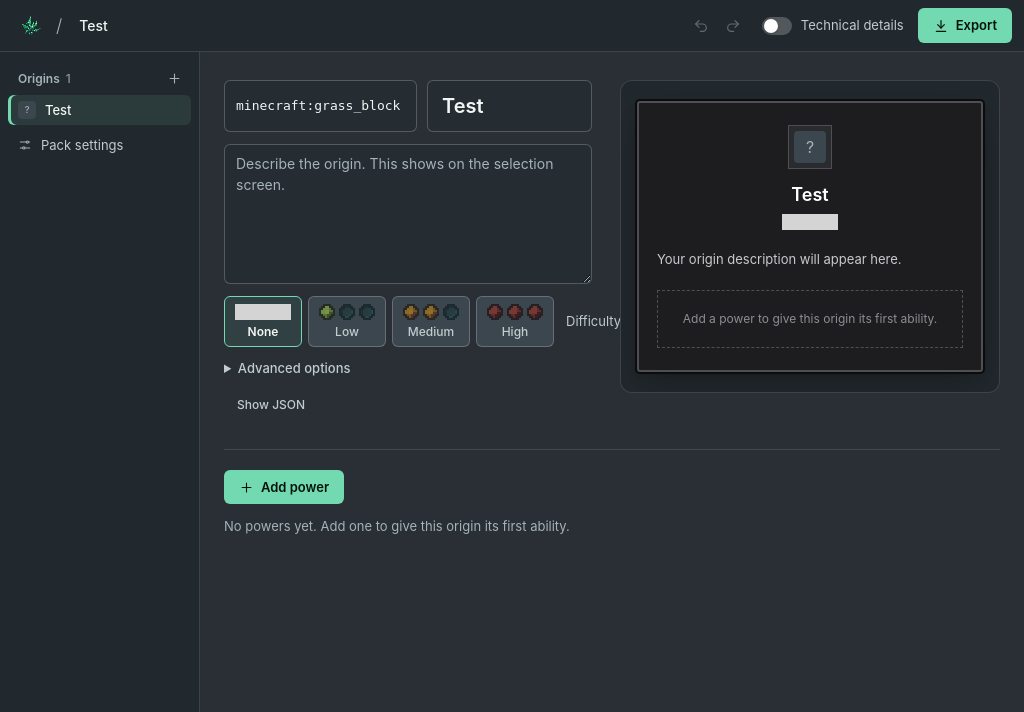
Test case: workshop › creates a power and its reference as one undo step
Click the button "Add power".
click(284, 487)  # box [224,470,344,504]
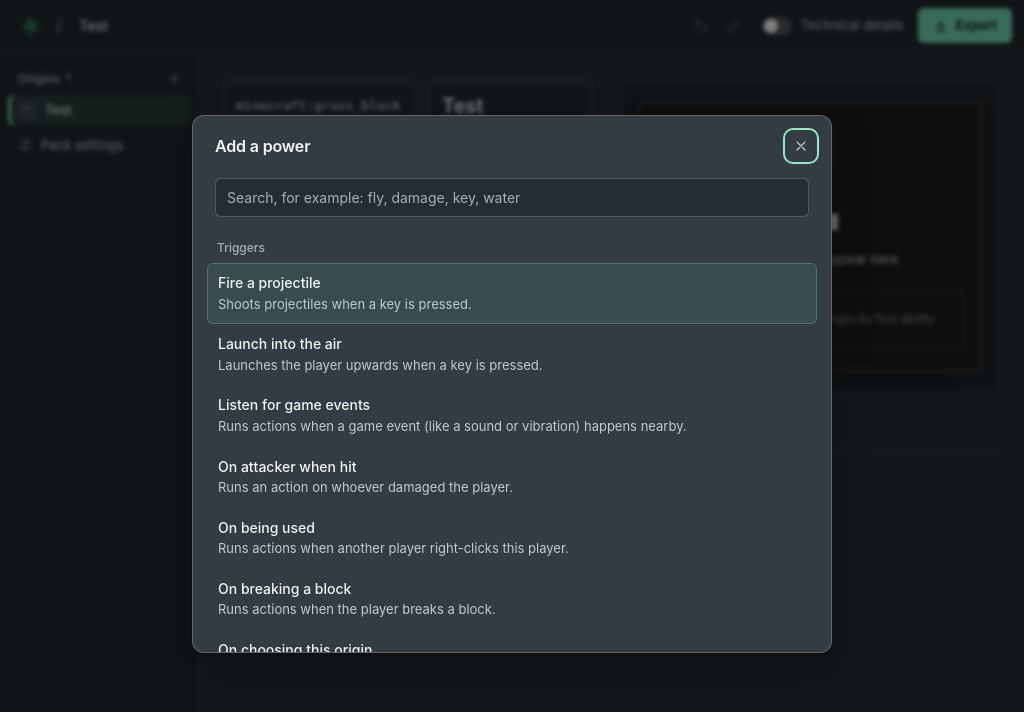
Type "fire immunity" into the dropdown.
click(512, 198); type("fire immunity")  # box [215,178,809,217]
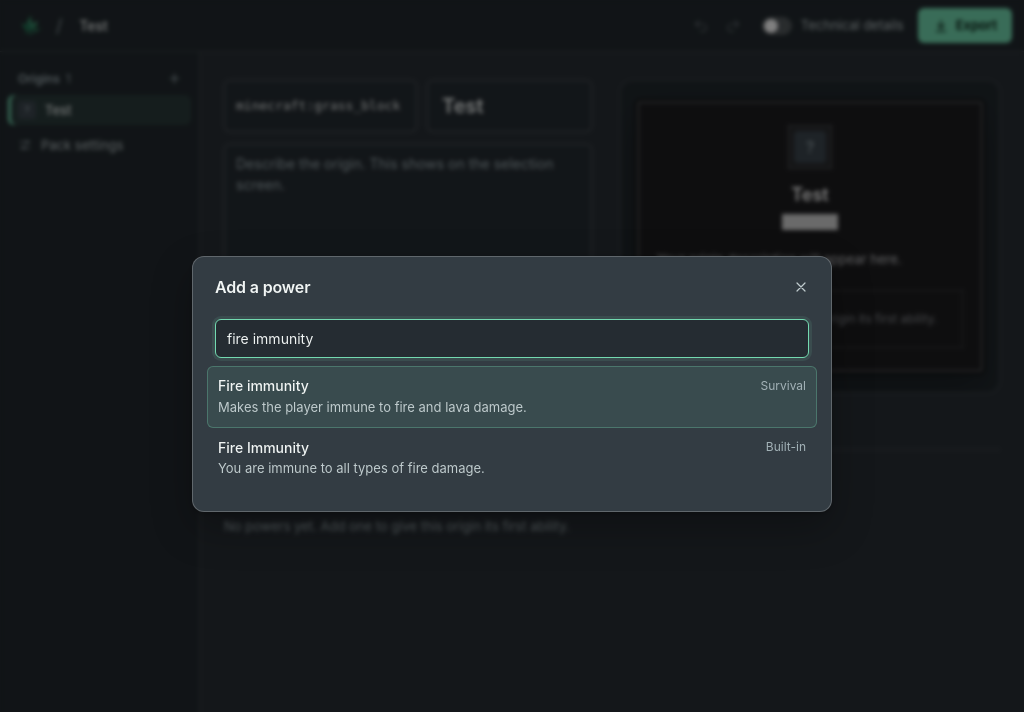
Click the option "Fire immunity".
click(512, 397)  # box [207,366,817,428]
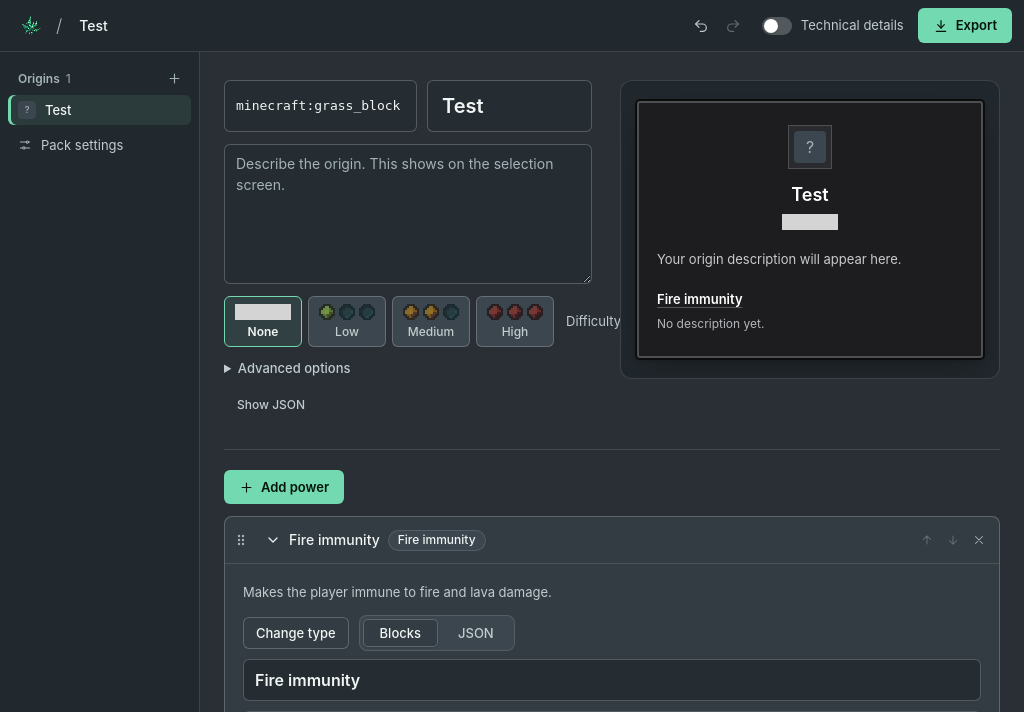
Click the button named "Undo".
click(701, 26)  # box [686,10,716,40]
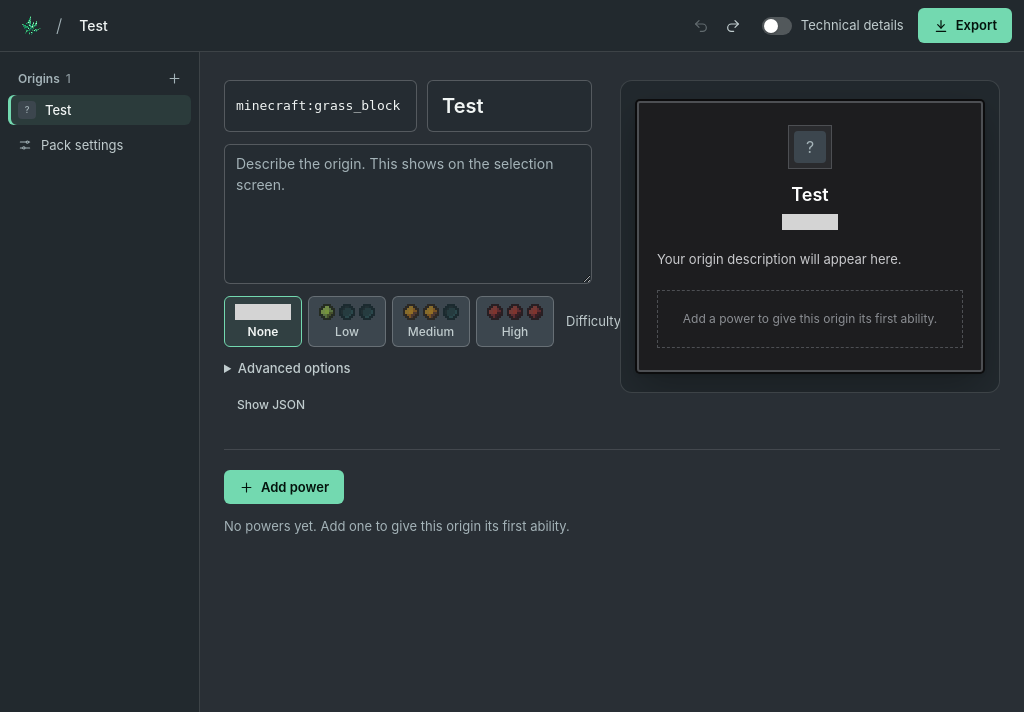
Check: the text "No powers yet" is shown, box [224,518,570,534]
